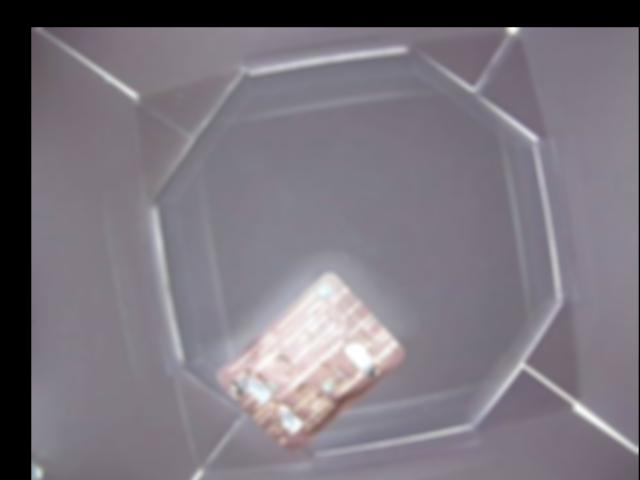Medicine: (219, 270, 406, 453)
